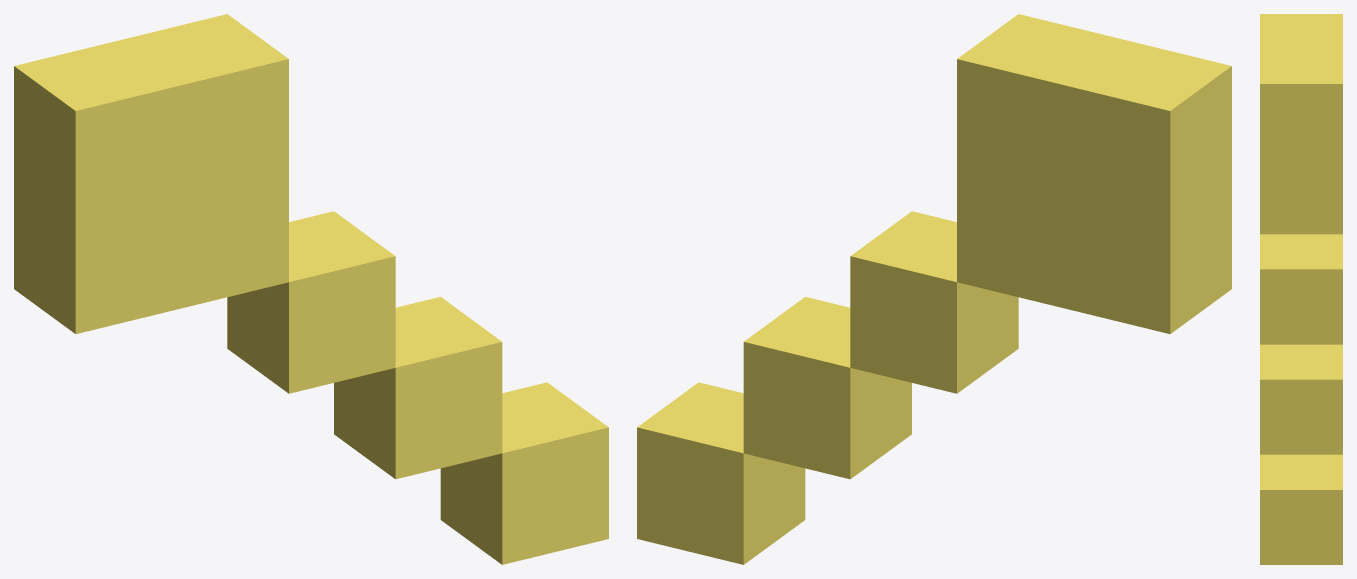
The model's file is Dart-Yellow.vox.obj.
The picture shows the model from 3 angles, left to right: view 1: azimuth 30°, elevation 25°; view 2: azimuth 150°, elevation 25°; view 3: azimuth 270°, elevation 25°; orthographic projection. The views are drawn at different scales.
Size of the model in its own units: 0.5 by 0.5 by 0.1.
Materials: 1 (1 with a texture image).
